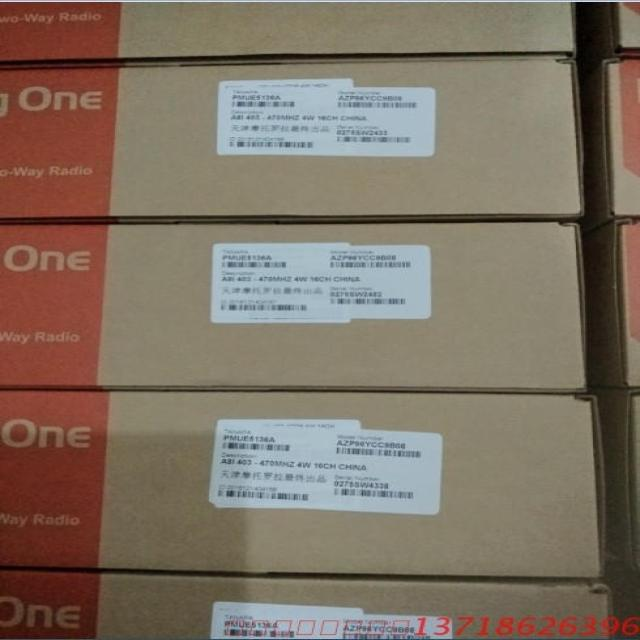box: (0, 389, 607, 578), (0, 222, 588, 392), (0, 59, 585, 223), (1, 570, 616, 640), (0, 1, 577, 69), (590, 387, 640, 640), (580, 57, 640, 234), (584, 218, 640, 389)
